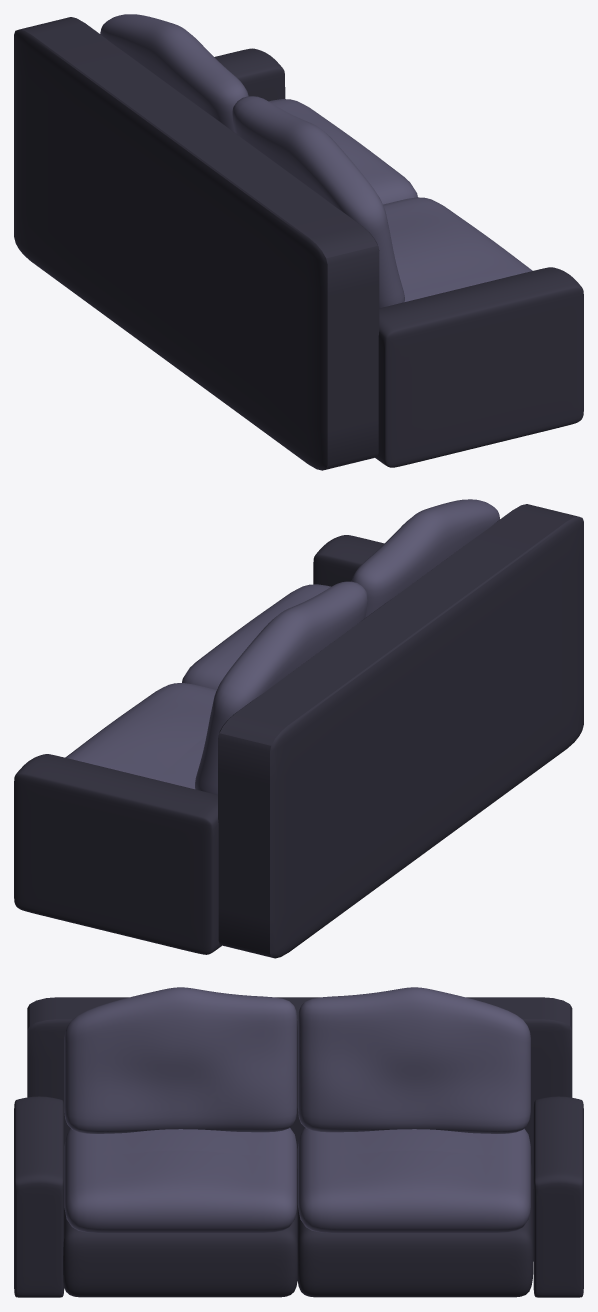
File: Couch.fbx
3 renders of one model, top to bottom at view 1: azimuth 30°, elevation 25°; view 2: azimuth 150°, elevation 25°; view 3: azimuth 270°, elevation 25°, orthographic. The views are drawn at different scales.
Parts seen in each view (by area): view 1: Cube.001; view 2: Cube.001; view 3: Cube.001.
Boxes of the visible parts, <box> form: Cube.001: <box>14,14,583,470</box>; Cube.001: <box>14,499,583,958</box>; Cube.001: <box>14,987,583,1297</box>.
Size of the model in its own units: 2.9 by 2.86 by 6.3.
